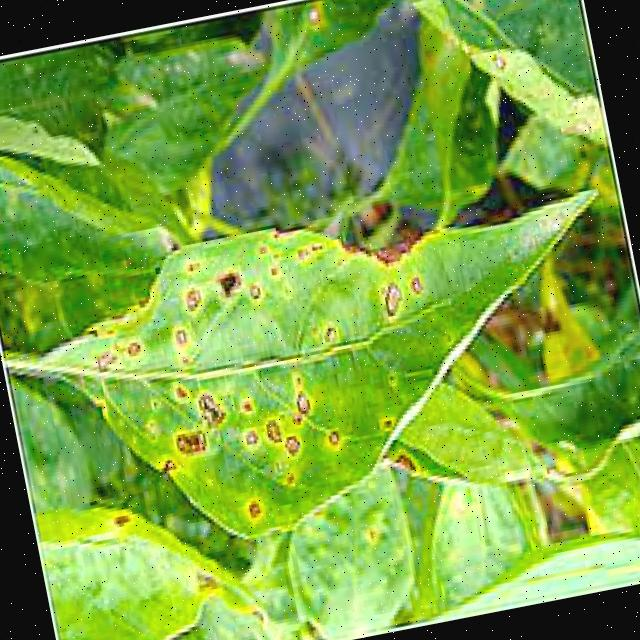leaf spot: (1, 152, 640, 587)
